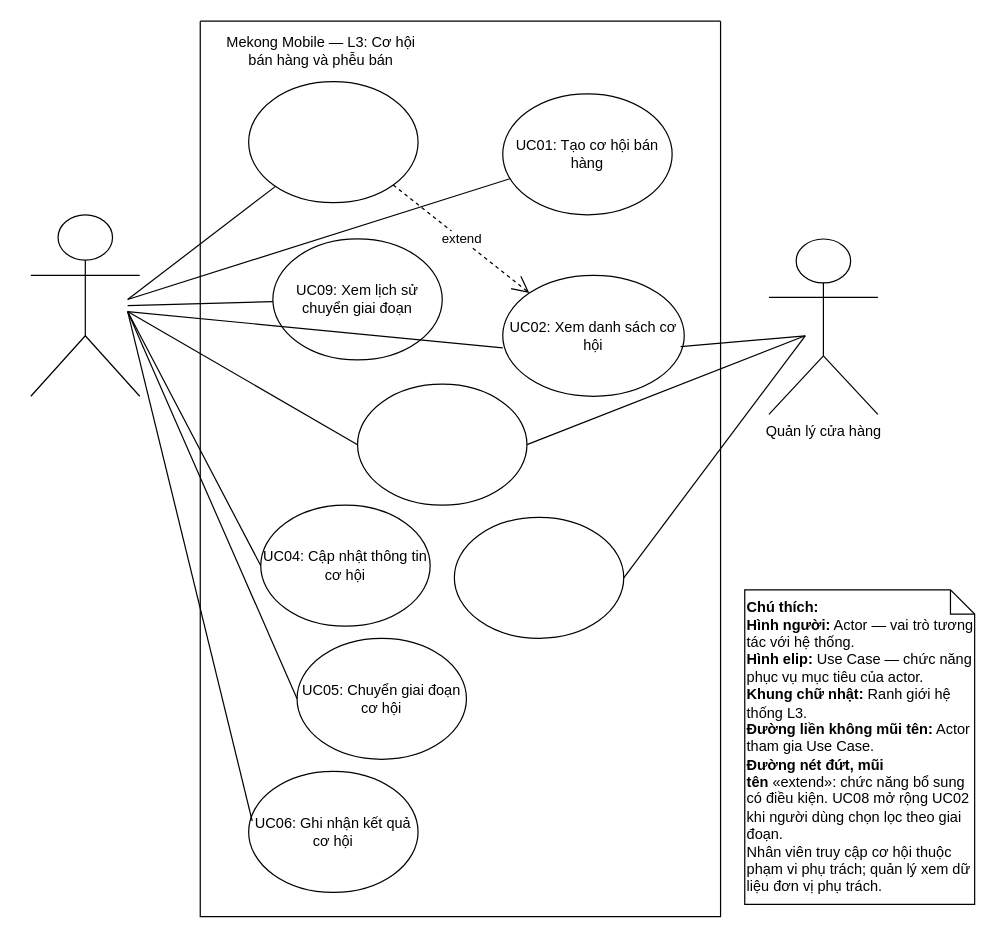
The diagram is 996 pixels wide and 938 high, and some of its shapes have lost their labels. Each missing label, with the centre of its shape:
Nhân viên bán hàng: the point at 85,305
UC03: Xem chi tiết cơ hội: the point at 441,444
UC07: Xem phễu bán hàng: the point at 538,577
UC08: Lọc cơ hội theo giai đoạn: the point at 332,141
